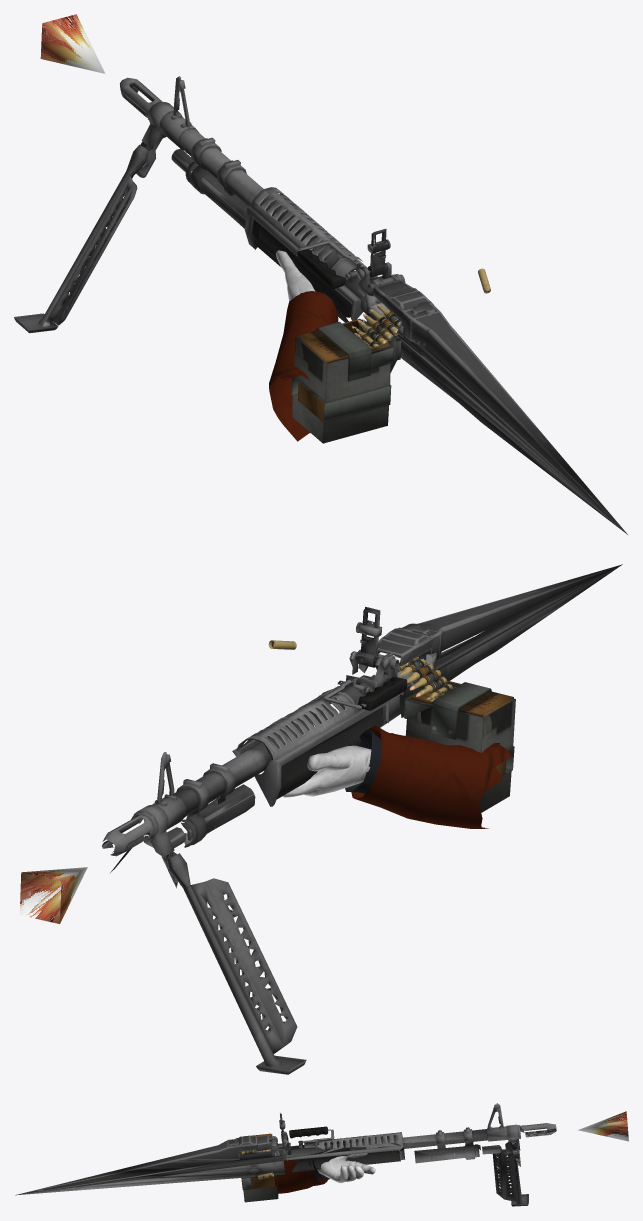
File: frame_6.obj
3 views of the same model, one above another, from view 1: azimuth 30°, elevation 25°; view 2: azimuth 150°, elevation 25°; view 3: azimuth 270°, elevation 25° (orthographic). The views are drawn at different scales.
Parts seen in each view (by area): view 1: Mesh.005, PlayerModelMerged.001_PlayerModelMerged, Plane, Mesh.001; view 2: Mesh.005, PlayerModelMerged.001_PlayerModelMerged, Plane, Mesh.001; view 3: Mesh.005, PlayerModelMerged.001_PlayerModelMerged, Plane.
Boxes of the visible parts, x1,y1,x2,y2 form: Mesh.005: (14, 76, 627, 534); PlayerModelMerged.001_PlayerModelMerged: (269, 250, 338, 441); Plane: (40, 14, 105, 73); Mesh.001: (351, 304, 401, 347); Mesh.005: (102, 564, 622, 1074); PlayerModelMerged.001_PlayerModelMerged: (282, 725, 511, 828); Plane: (19, 867, 87, 923); Mesh.001: (399, 658, 452, 699); Mesh.005: (15, 1103, 556, 1206); PlayerModelMerged.001_PlayerModelMerged: (274, 1153, 375, 1193); Plane: (578, 1111, 628, 1141).
Size of the model in its own units: 0.6636 by 0.6119 by 2.55.
